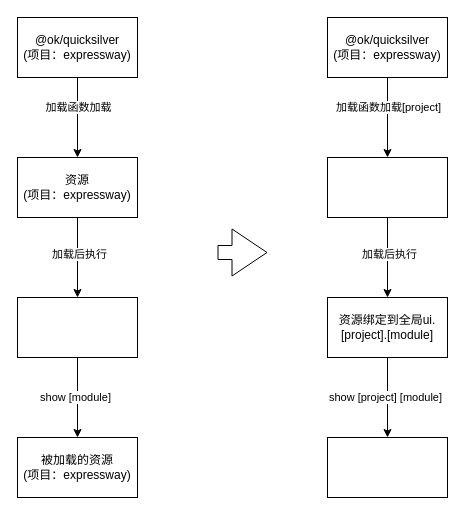
Some shapes in this 465 by 515 pixel diagram are drawn without their labels. The centre of each missing label's shape, as x and y in pixels:
被加载的资源 (项目：[project]): (x=387, y=467)
资源 (项目：任意，全局注入project version): (x=387, y=187)
资源绑定到全局ui.expressway.[module]: (x=77, y=327)
